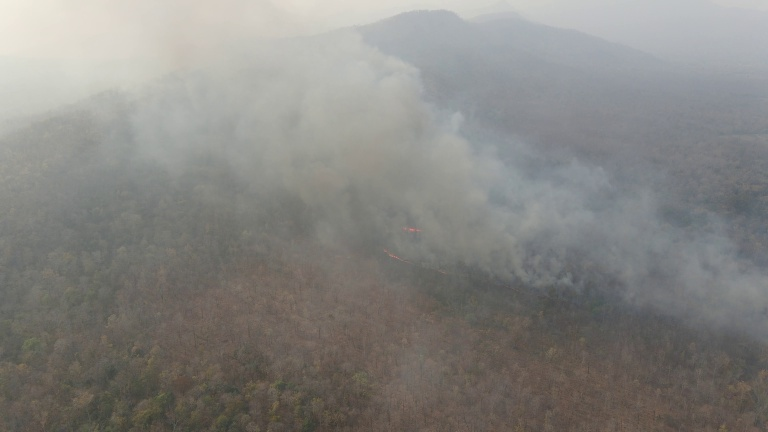fire: (378, 247, 414, 265), (396, 221, 424, 233), (433, 265, 453, 273)
smoke: (128, 1, 615, 297)
